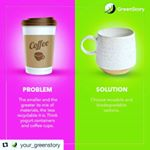cups: (80, 25, 139, 78), (20, 14, 61, 81)
